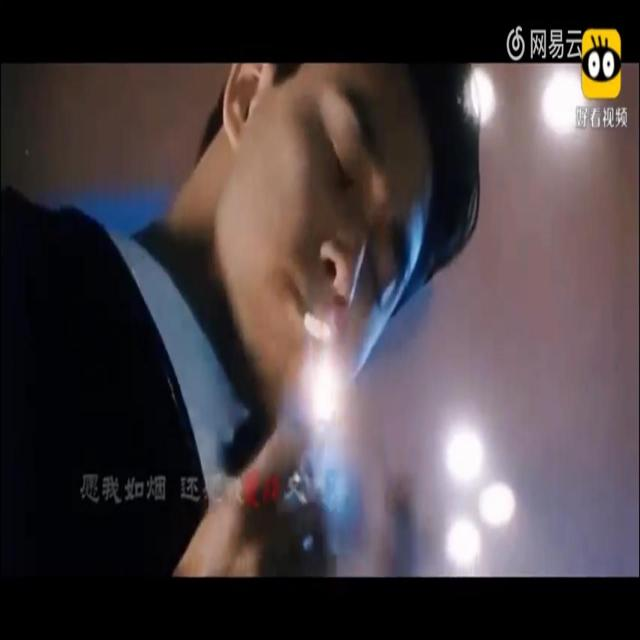Сигарета: (302, 313, 332, 340)
Тело: (2, 58, 478, 579)
